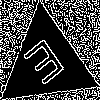E: (21, 37, 72, 94)
